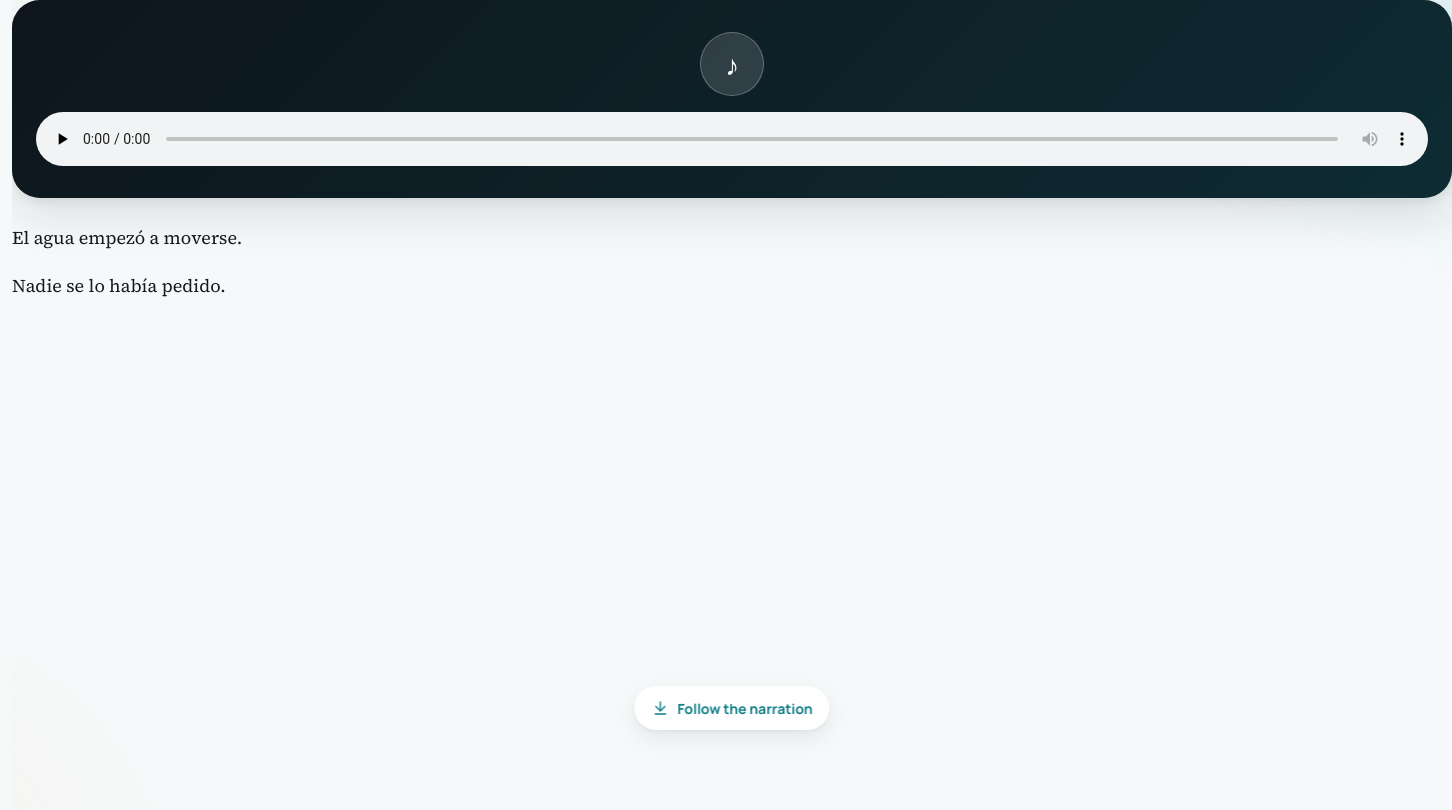
Test case: MediaMaterial › Following the narration › stops following on a manual scroll and offers to resume
Expected: the text "empezó" is shown, [79,225,145,250]
Click the button "Follow the narration" at (732,708), box [634,686,830,730]
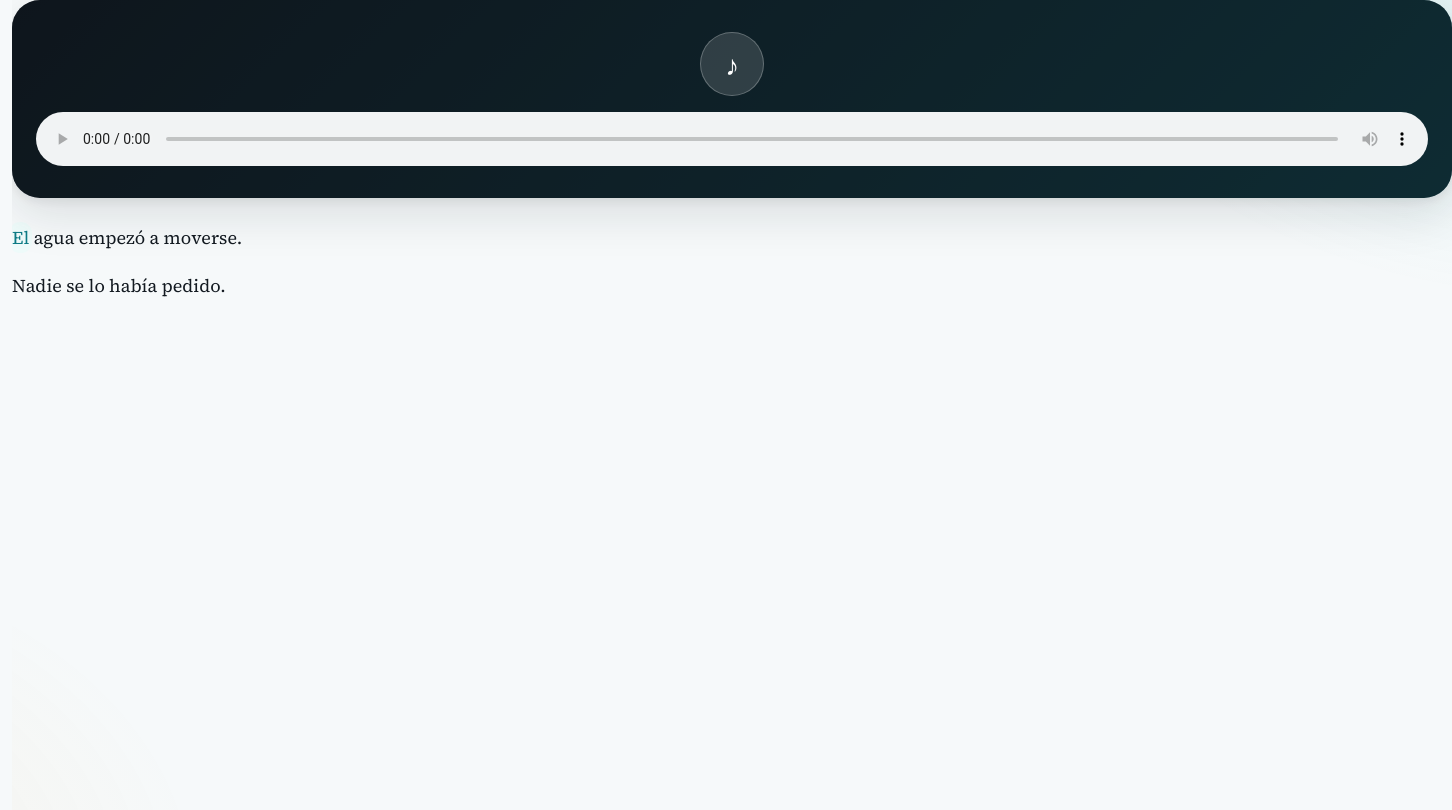
Result: the button "Follow the narration" is gone
